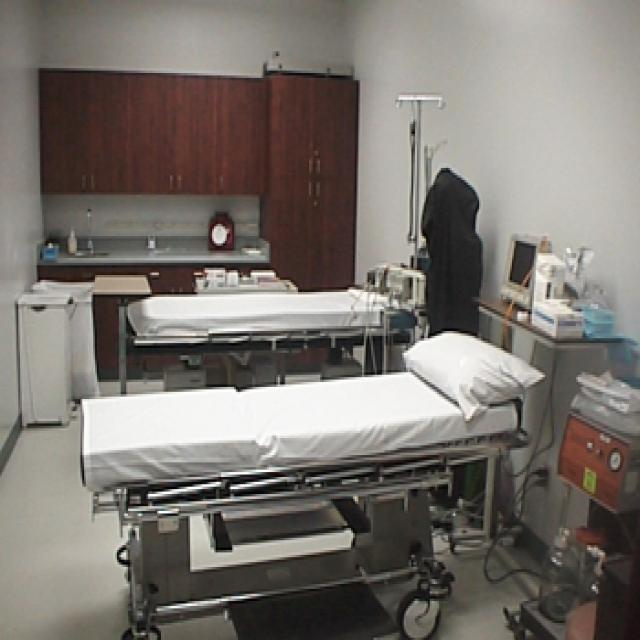bucket crop: (15, 290, 71, 423)
closet crop: (258, 71, 357, 287)
cupboard crop: (38, 238, 265, 384), (38, 68, 263, 192)
equipment: (516, 367, 636, 635), (472, 231, 618, 341)
floor -X: (0, 353, 633, 638)
pillow occluded: (400, 326, 539, 421)
stretcher occluded: (77, 326, 539, 638), (128, 287, 413, 384)
wall clock: (340, 0, 635, 633), (40, 0, 346, 389)
